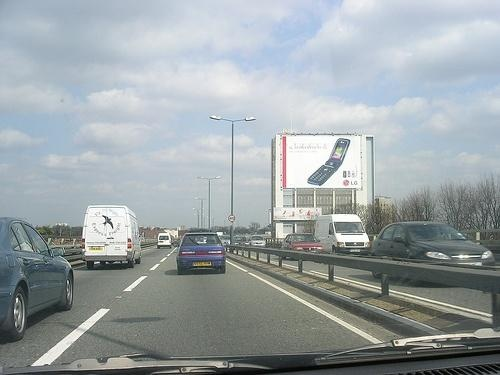car: (2, 217, 75, 344), (372, 221, 496, 287), (80, 204, 140, 271), (176, 230, 228, 276), (315, 216, 370, 255), (283, 234, 324, 255), (156, 233, 174, 250), (248, 234, 267, 248)
